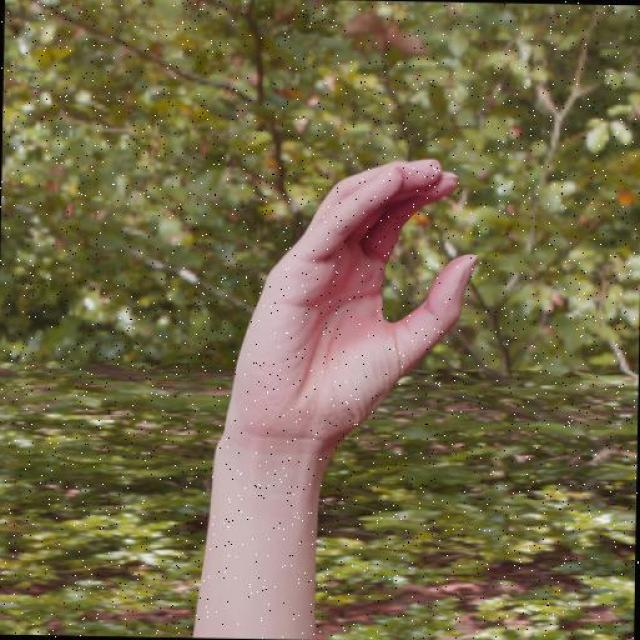C: (223, 153, 483, 442)
